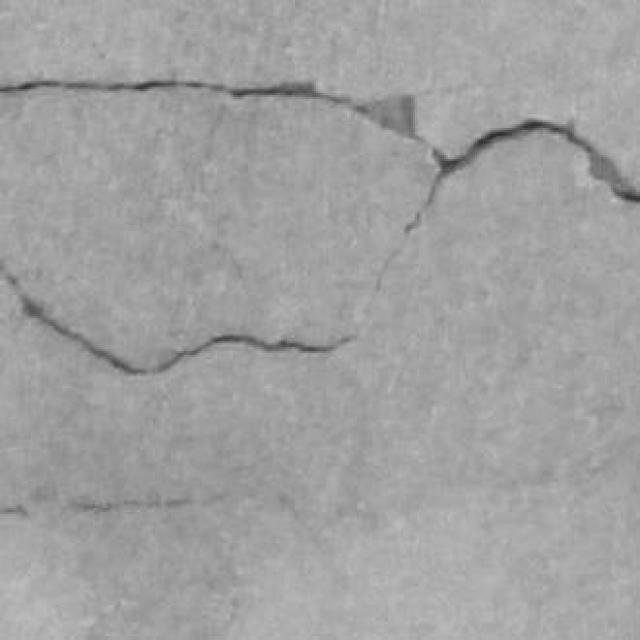crack: (371, 119, 639, 302), (0, 262, 354, 376), (406, 119, 639, 234), (0, 80, 422, 141), (57, 495, 226, 515), (64, 499, 195, 513), (0, 505, 29, 517)
